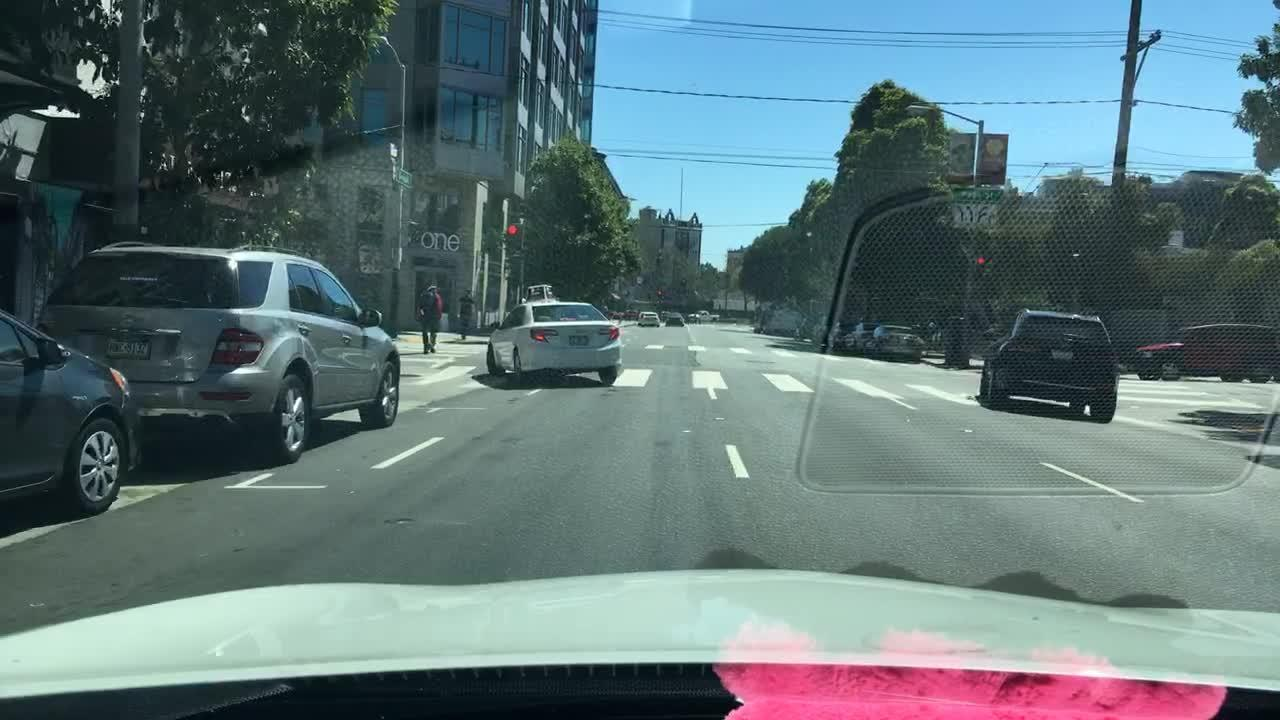Mercedes: (119, 313, 137, 329)
